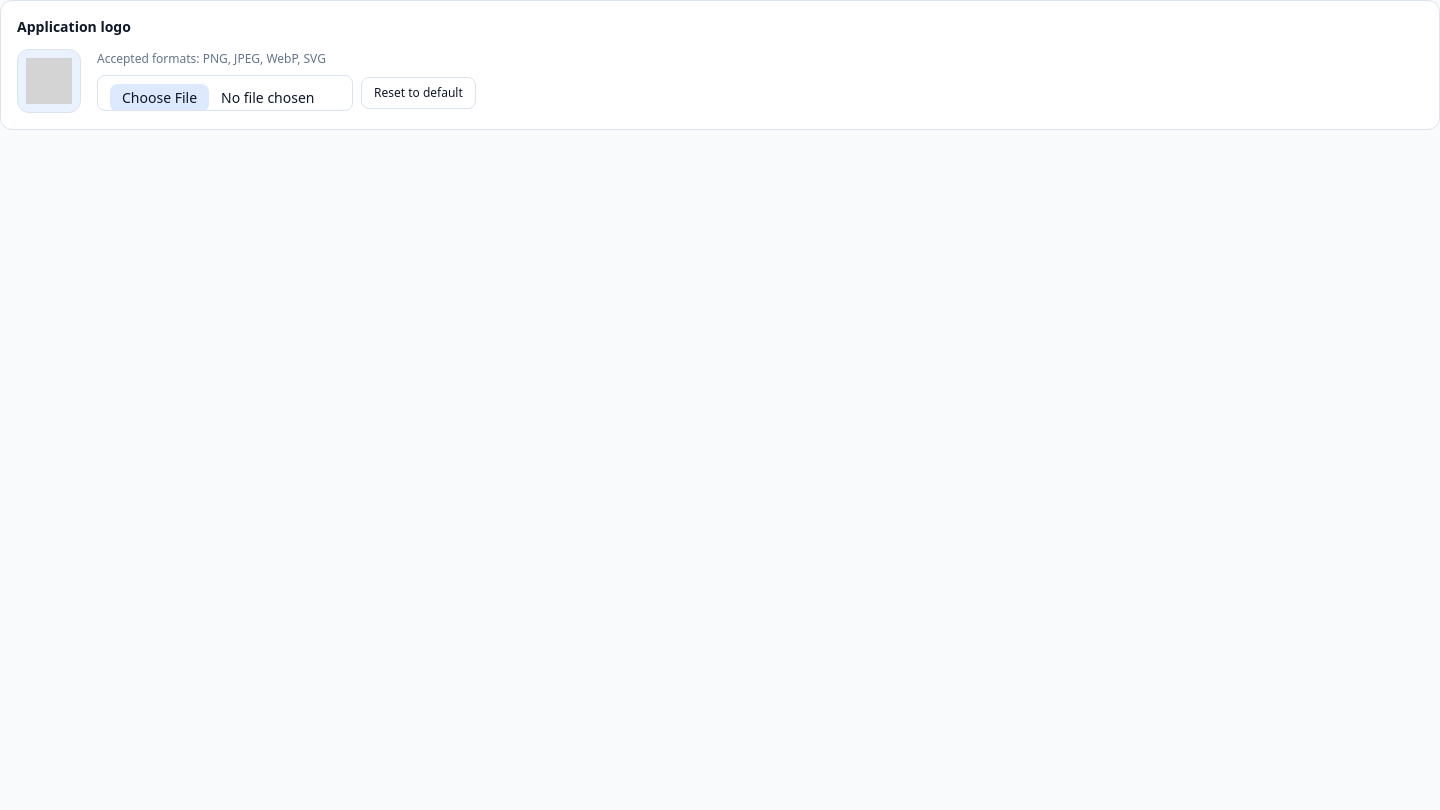
Test: BrandingAssetSection › opens a confirmation dialog and calls onRemove only after confirming
Later steps or results of the test are not shown.
Step 1. Click the button "Reset to default" → [418, 93], box left=361, top=77, right=476, bottom=109
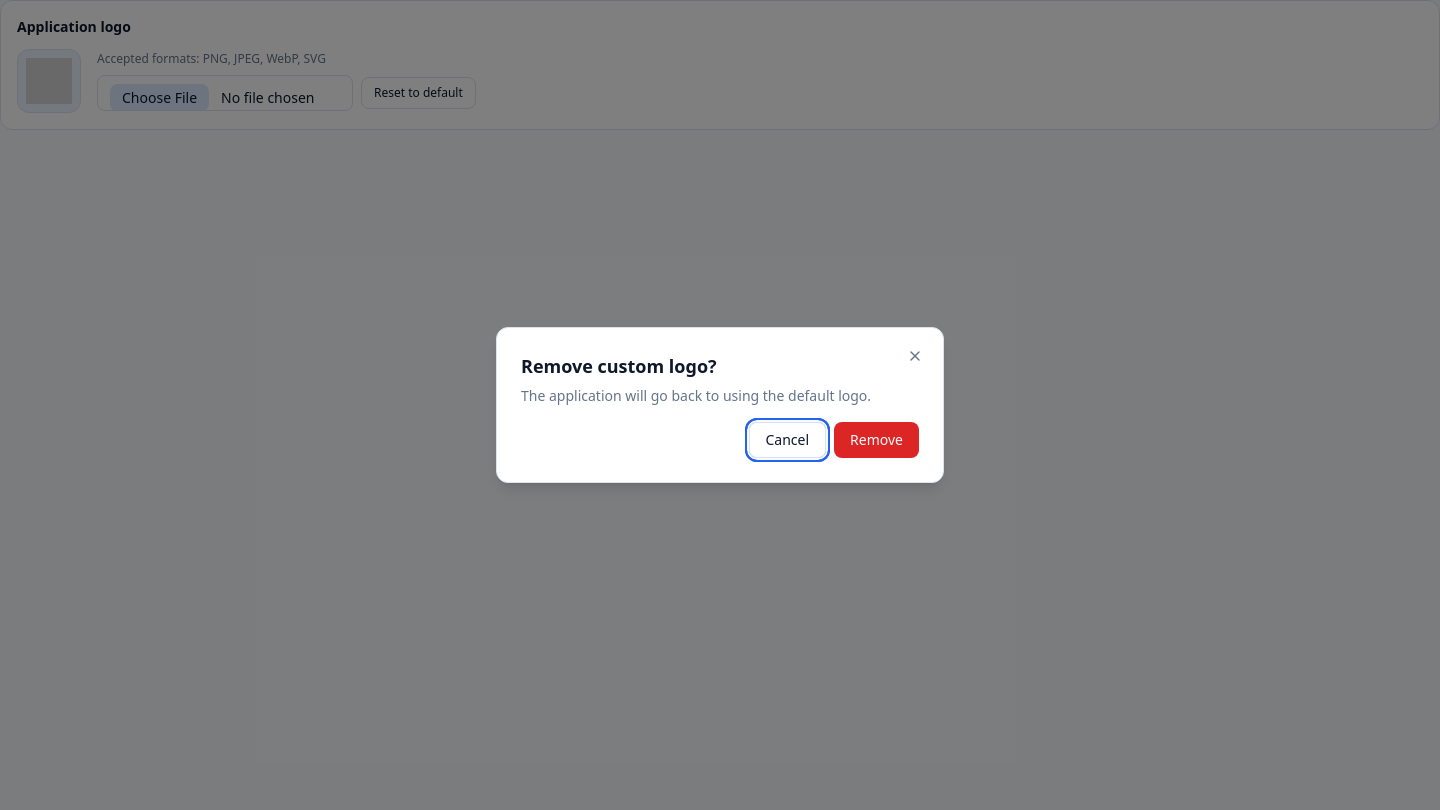
Expected: the heading "Remove custom logo?" is shown, left=521, top=354, right=717, bottom=378
